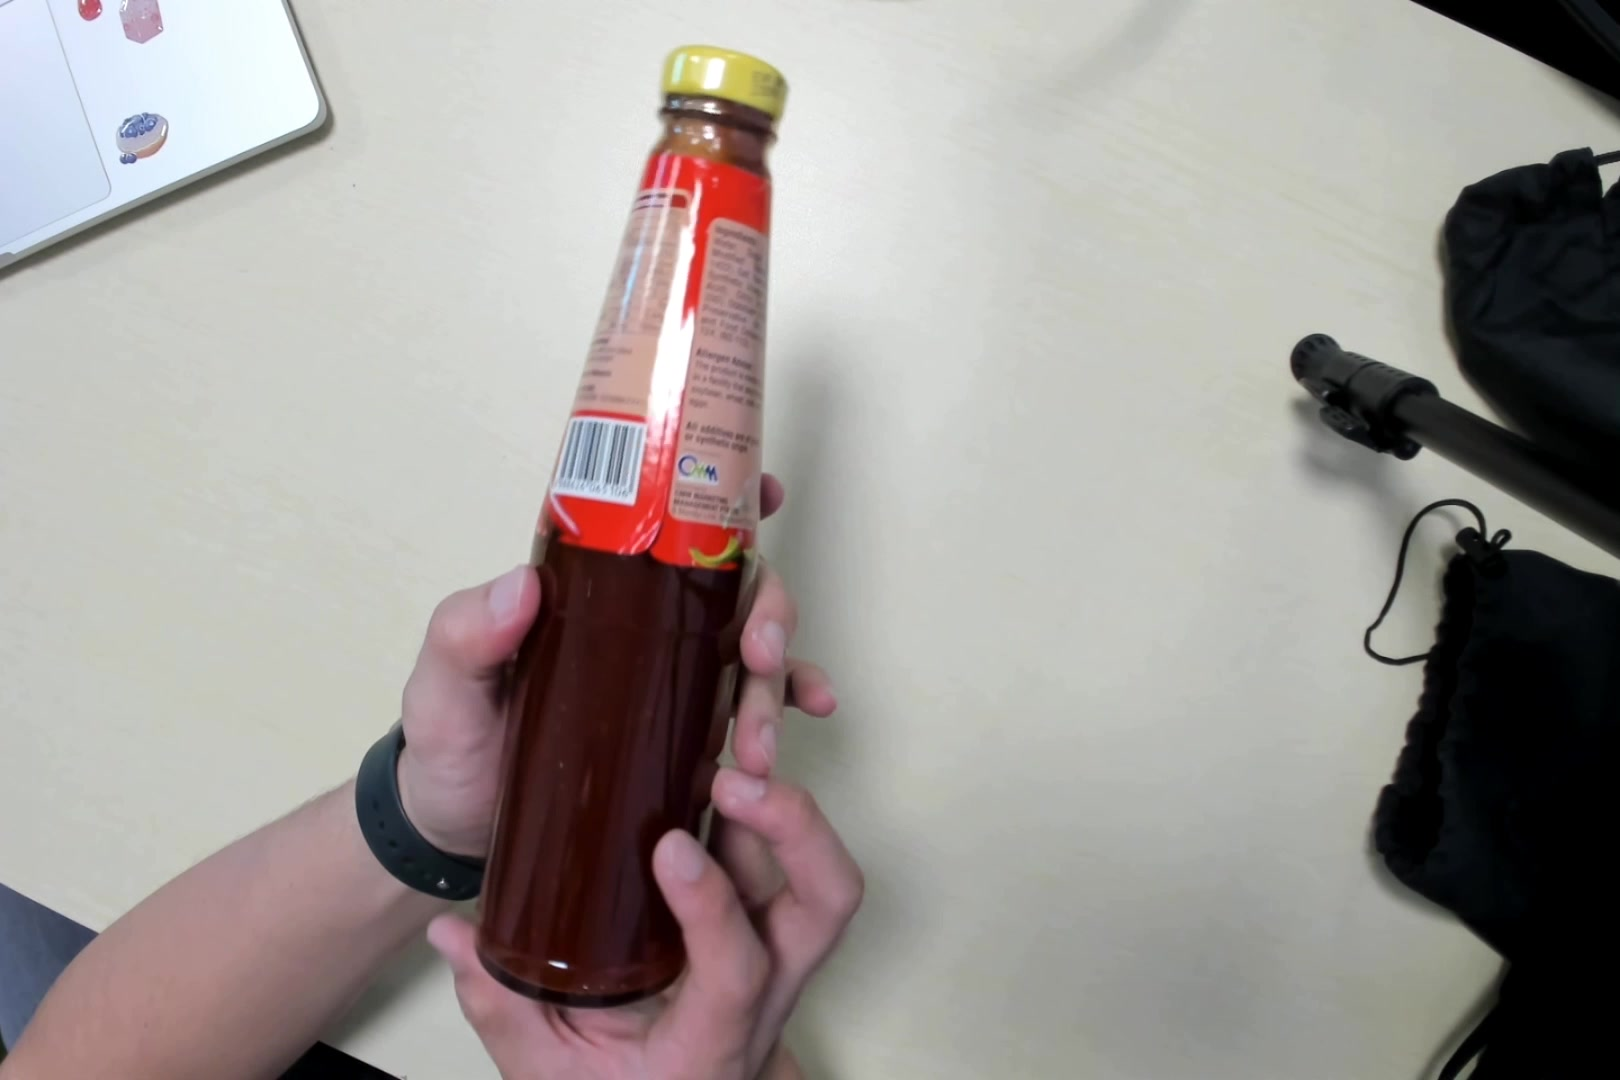KetchupChillSauce_500-599g_Halal_NonHealthy: (491, 42, 793, 1009)
